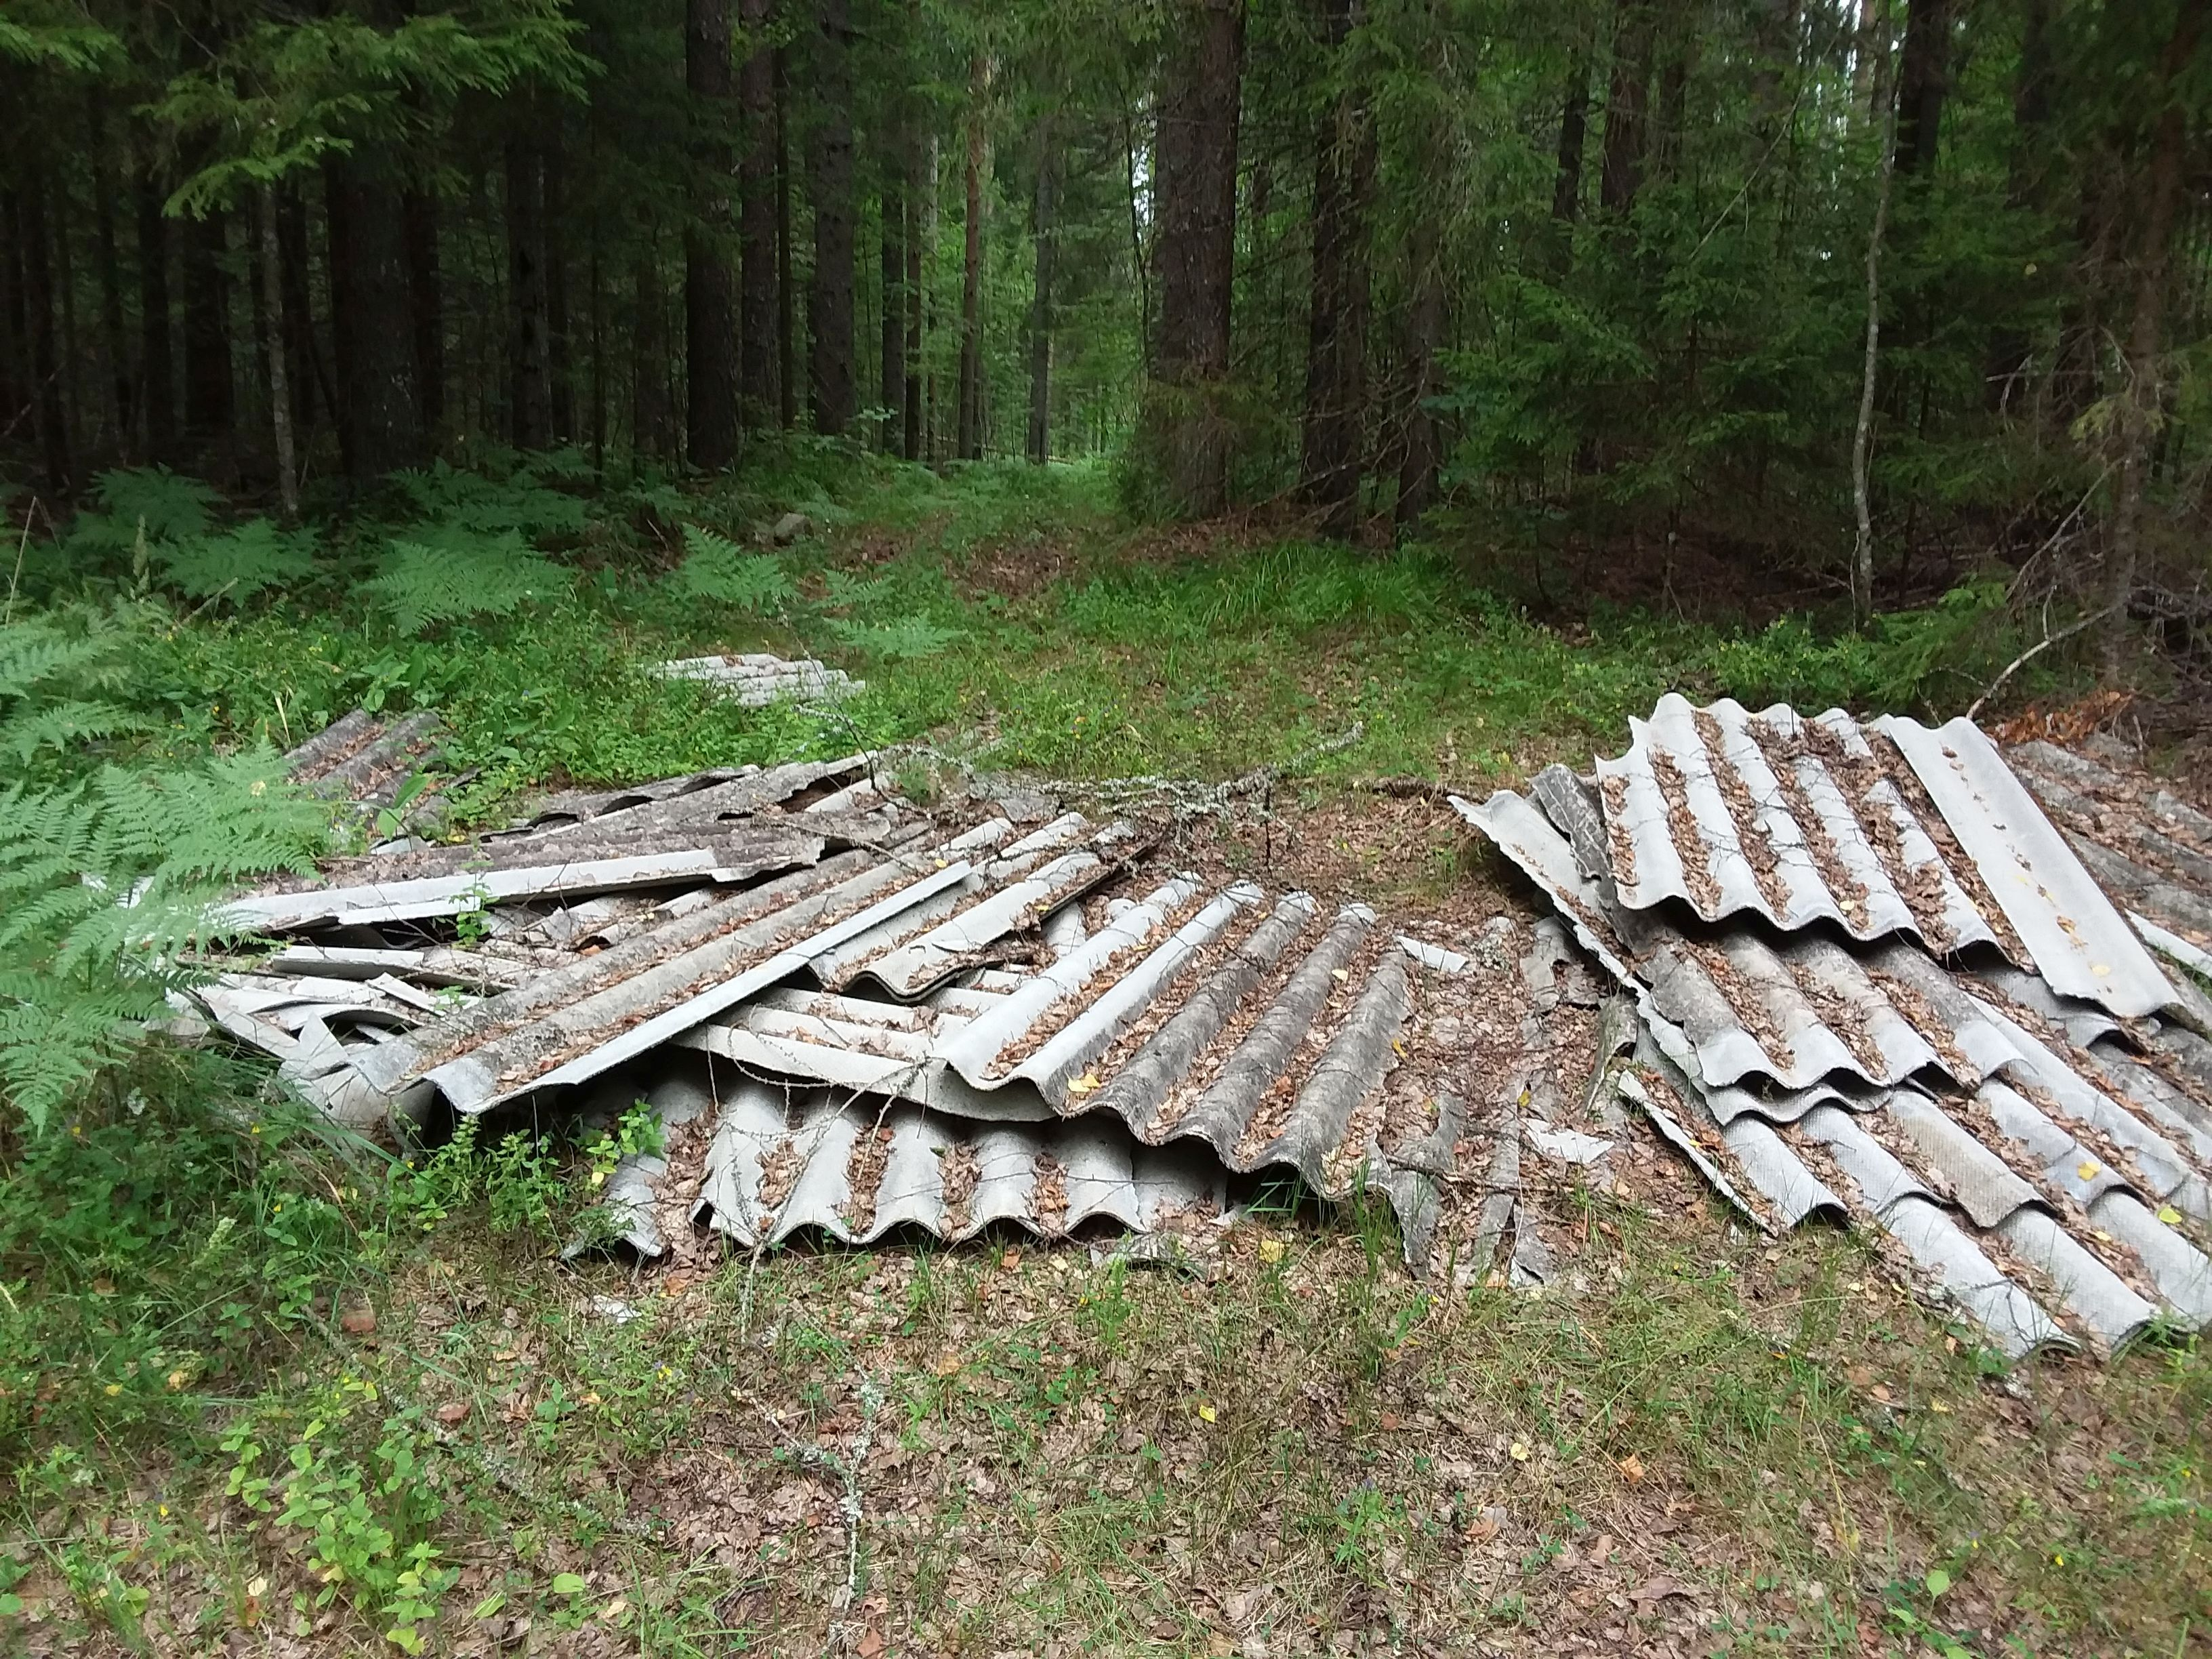trash: (174, 709, 1447, 1225), (1533, 666, 2212, 1321)
